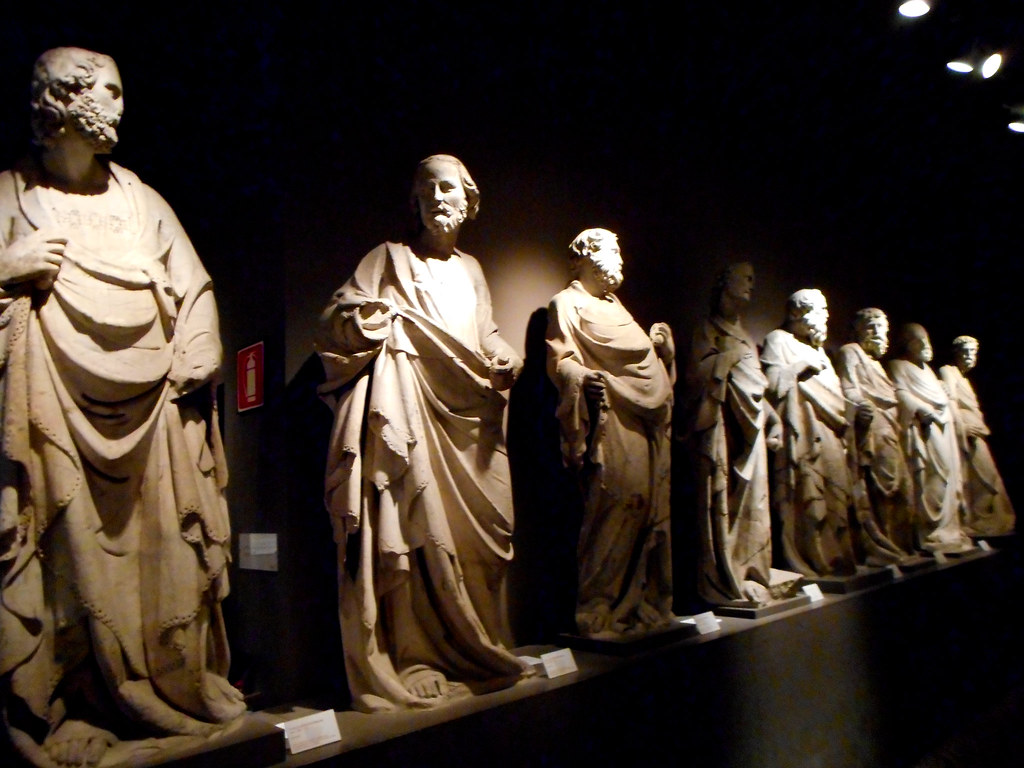person-like: (4, 42, 252, 765), (302, 145, 540, 704), (544, 215, 687, 642), (693, 251, 785, 614), (757, 282, 866, 587), (835, 298, 913, 572), (888, 319, 974, 558), (935, 331, 1022, 542)
